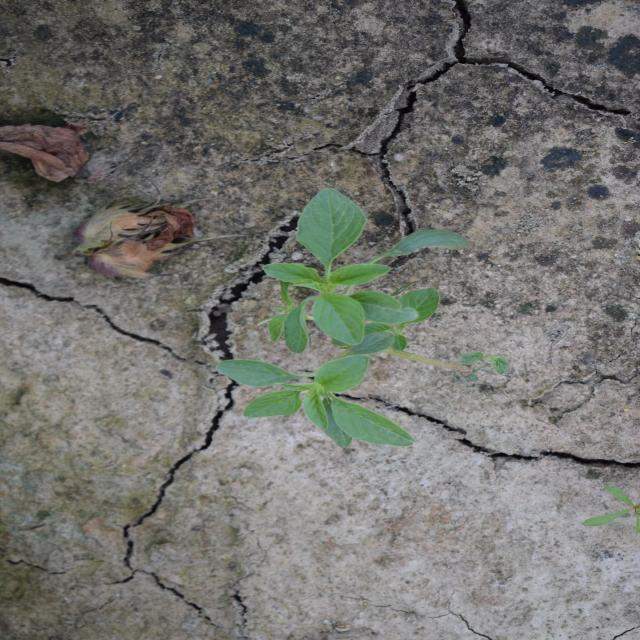Waterhemp: (213, 185, 511, 450)
